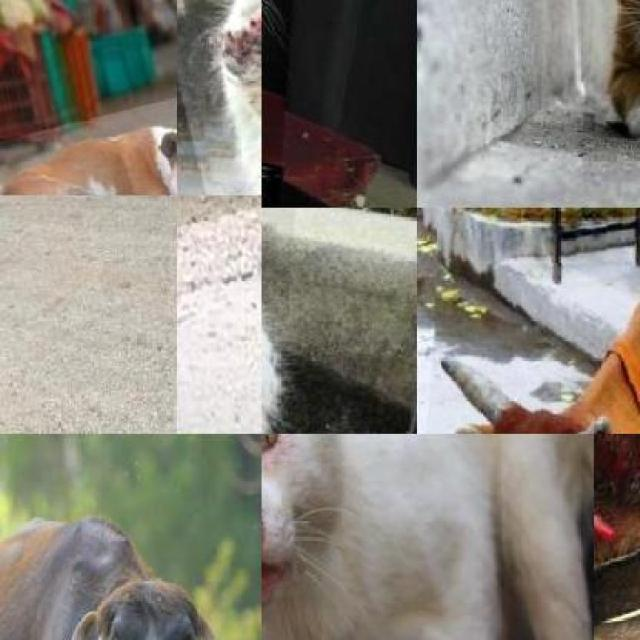buffalo: (0, 537, 228, 640)
cat: (261, 434, 594, 640), (176, 0, 261, 195), (262, 0, 306, 208)
cow: (417, 208, 640, 434)
dog: (0, 78, 177, 195)
injured: (200, 0, 262, 166), (594, 434, 640, 629), (262, 434, 302, 618)
